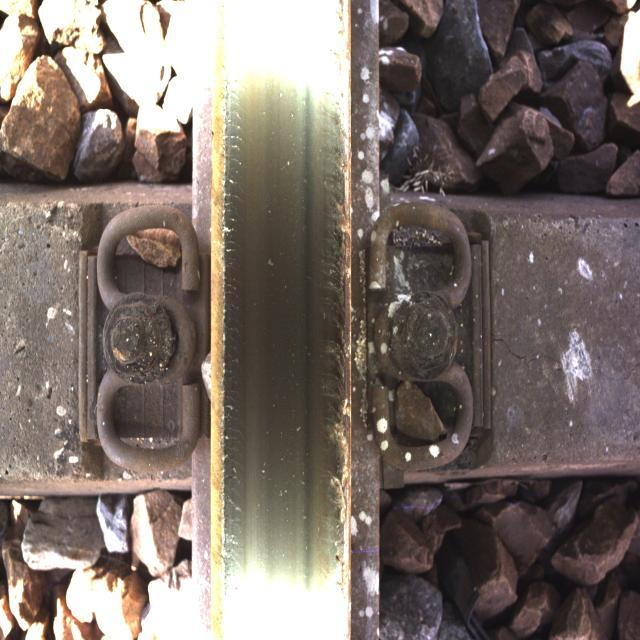scar: (288, 68, 358, 564)
